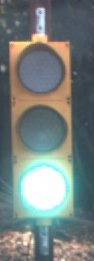Green: (3, 31, 87, 230)
